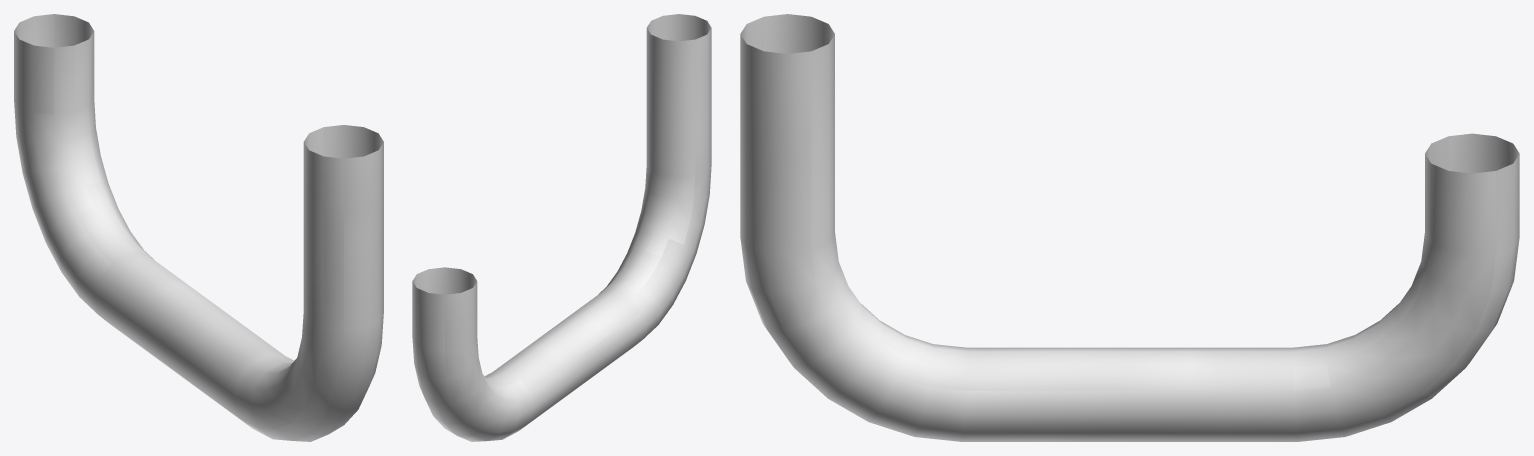
Rendered from SM_Window_Handle.obj.
3 renders of one model, left to right at view 1: azimuth 30°, elevation 25°; view 2: azimuth 150°, elevation 25°; view 3: azimuth 270°, elevation 25°, orthographic. The views are drawn at different scales.
Visible parts, largest first — view 1: SM_Window_Handle; view 2: SM_Window_Handle; view 3: SM_Window_Handle.
Boxes of the visible parts, x1=… form: SM_Window_Handle: x1=14, y1=14, x2=383, y2=441; SM_Window_Handle: x1=412, y1=14, x2=711, y2=441; SM_Window_Handle: x1=740, y1=14, x2=1519, y2=441.
Size of the model in its own units: 0.016 by 0.0752 by 0.1316.
Materials: 1 (1 with a texture image).
